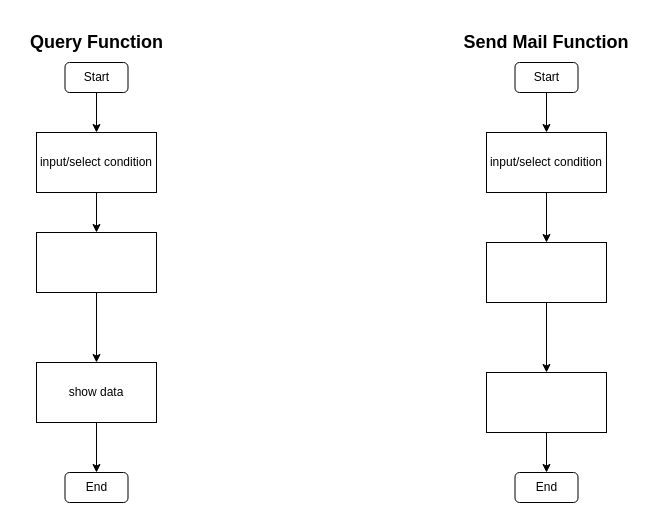
Image size: 664x520. Some labels were removed from this diagram. Each missing label, with the centre of its shape:
click query button: pixel 96 262
click send mail button: pixel 546 272
send mail: pixel 546 402
